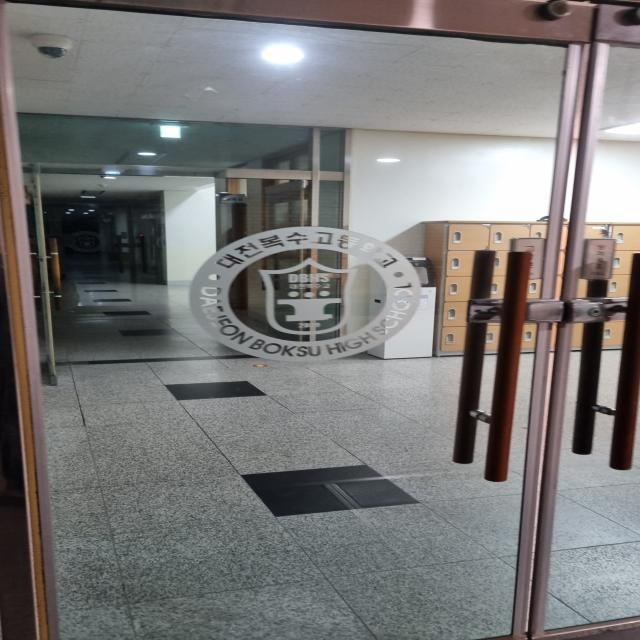logo: (181, 222, 424, 364)
